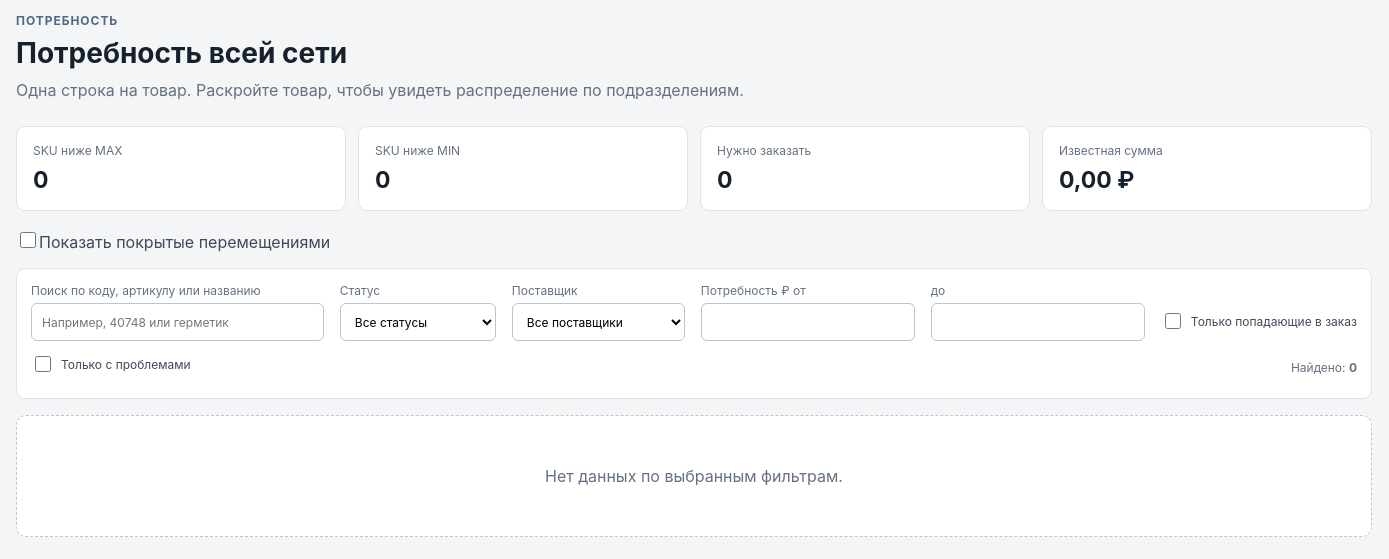
fully covered SKU leaves supplier problems, and remains accessible among all goods
Click the checkbox labelled "Показать покрытые перемещениями". click: (28, 240)
box: [20, 232, 36, 248]
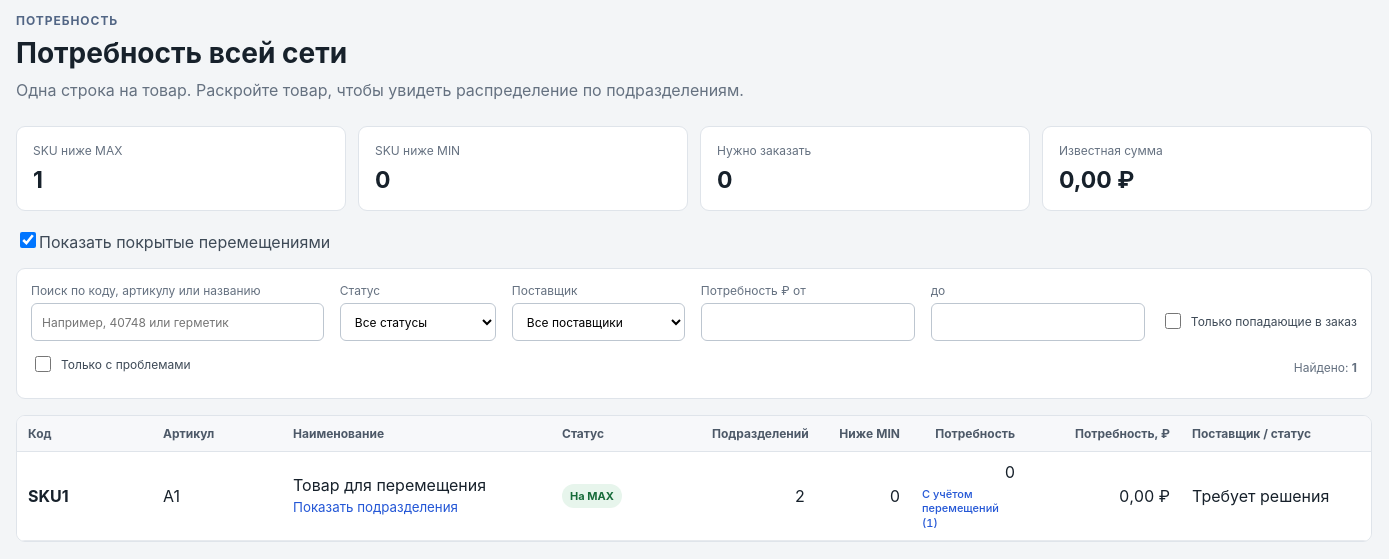
Expected: the text "SKU1" is shown, [28, 486, 69, 506]
